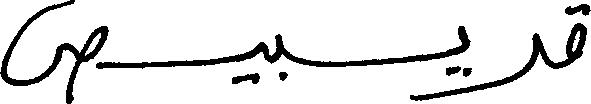X: (0, 0, 106, 103), (483, 28, 538, 94), (565, 0, 590, 71), (457, 21, 469, 98), (255, 37, 265, 88), (275, 29, 283, 85)
